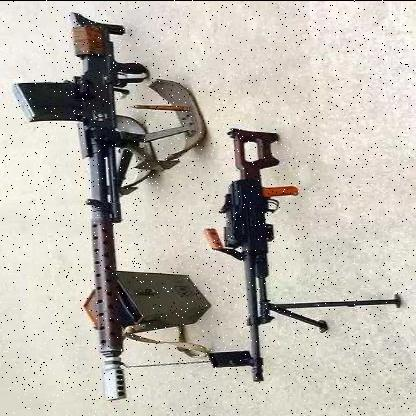rifle: (16, 9, 172, 406), (196, 124, 357, 377)
